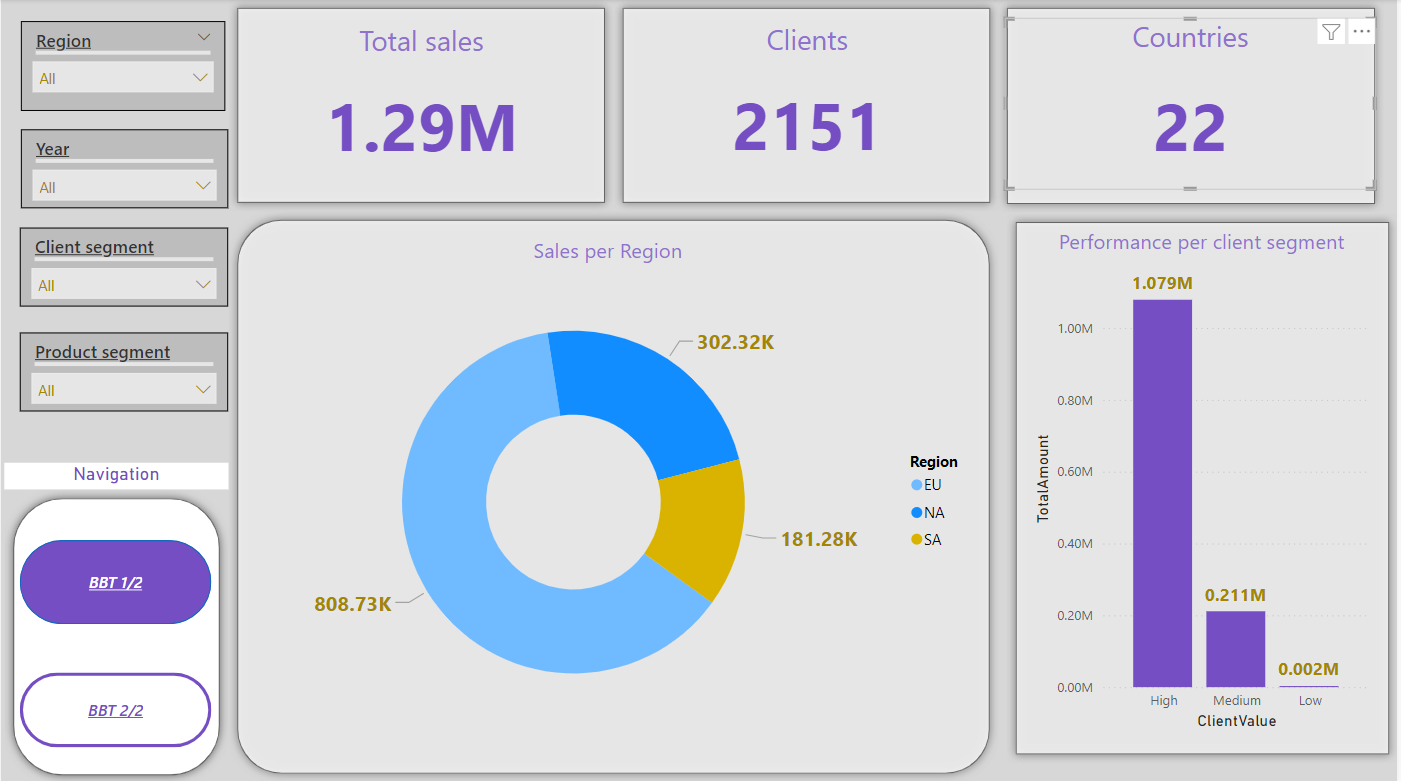

The page's visual inventory and layout, read from the dashboard file:
{"tool":"powerbi","page":{"name":"p1","canvas":[1280,720],"ordinal":0},"visuals":[{"type":"shape","box":[921.9,196.1,358.7,504.4],"z":0},{"type":"shape","box":[914.5,0,353.7,196.1],"z":1000},{"type":"shape","box":[561.7,0,353.3,195],"z":2000},{"type":"shape","box":[208.3,0,353.3,195],"z":3000},{"type":"shape","box":[208.8,194.7,706.1,524],"z":4000},{"type":"card","title":"Total sales","fields":{"Values":["Sum(FactSales.TotalAmount)"]},"box":[222.9,20,325.7,151.4],"z":5000},{"type":"pieChart","title":"Sales per Region","fields":{"Y":["Sum(FactSales.TotalAmount)"],"Category":["FactSales.Region"]},"box":[224.2,224.2,690.7,460.9],"z":6000},{"type":"slicer","fields":{"Values":["FactSales.Region"]},"box":[17.8,20.6,187.8,82.3],"z":7000},{"type":"slicer","fields":{"Values":["DimCalendar.Year"]},"box":[17.8,119.3,190.6,72.7],"z":8000},{"type":"shape","title":"Navigation","box":[2.9,425.7,205.7,294.3],"z":9000},{"type":"shape","box":[17.1,617.1,175.7,68.6],"z":10000},{"type":"card","title":"Countries","fields":{"Values":["Count(DimCustomer.Country)"]},"box":[920.5,16.8,340.5,158.3],"z":13000},{"type":"card","title":"Clients","fields":{"Values":["CountNonNull(FactSales.CustomerKey)"]},"box":[575.8,19.6,326.4,151.3],"z":14000},{"type":"shape","box":[17.1,495.7,175.7,77.1],"z":15000},{"type":"clusteredColumnChart","title":"Performance per client segment","fields":{"Category":["DimCustomer.ClientValue"],"Y":["Sum(FactSales.TotalAmount)"]},"box":[941.4,210,318.6,464.3],"z":16000},{"type":"slicer","fields":{"Values":["DimCustomer.ClientValue"]},"box":[17.1,210,191.4,72.9],"z":17000},{"type":"slicer","fields":{"Values":["DimProduct.ProductStatus"]},"box":[17.1,305.7,191.4,72.9],"z":17001}]}

Visuals, with their boxes in screenshot pixels (x1, y1, x2, y2), scaled from the page's 1280x720 canvas onto the 1401x781 screenshot:
shape: box(1009, 213, 1400, 760)
shape: box(1001, 0, 1388, 213)
shape: box(615, 0, 1001, 212)
shape: box(228, 0, 615, 212)
shape: box(229, 211, 1001, 780)
"Total sales" card: box(244, 22, 600, 186)
"Sales per Region" pieChart: box(245, 243, 1001, 743)
slicer - FactSales.Region: box(19, 22, 225, 112)
slicer - DimCalendar.Year: box(19, 129, 228, 208)
"Navigation" shape: box(3, 462, 228, 780)
shape: box(19, 669, 211, 744)
"Countries" card: box(1008, 18, 1380, 190)
"Clients" card: box(630, 21, 987, 185)
shape: box(19, 538, 211, 621)
"Performance per client segment" clusteredColumnChart: box(1030, 228, 1379, 731)
slicer - DimCustomer.ClientValue: box(19, 228, 228, 307)
slicer - DimProduct.ProductStatus: box(19, 332, 228, 411)
